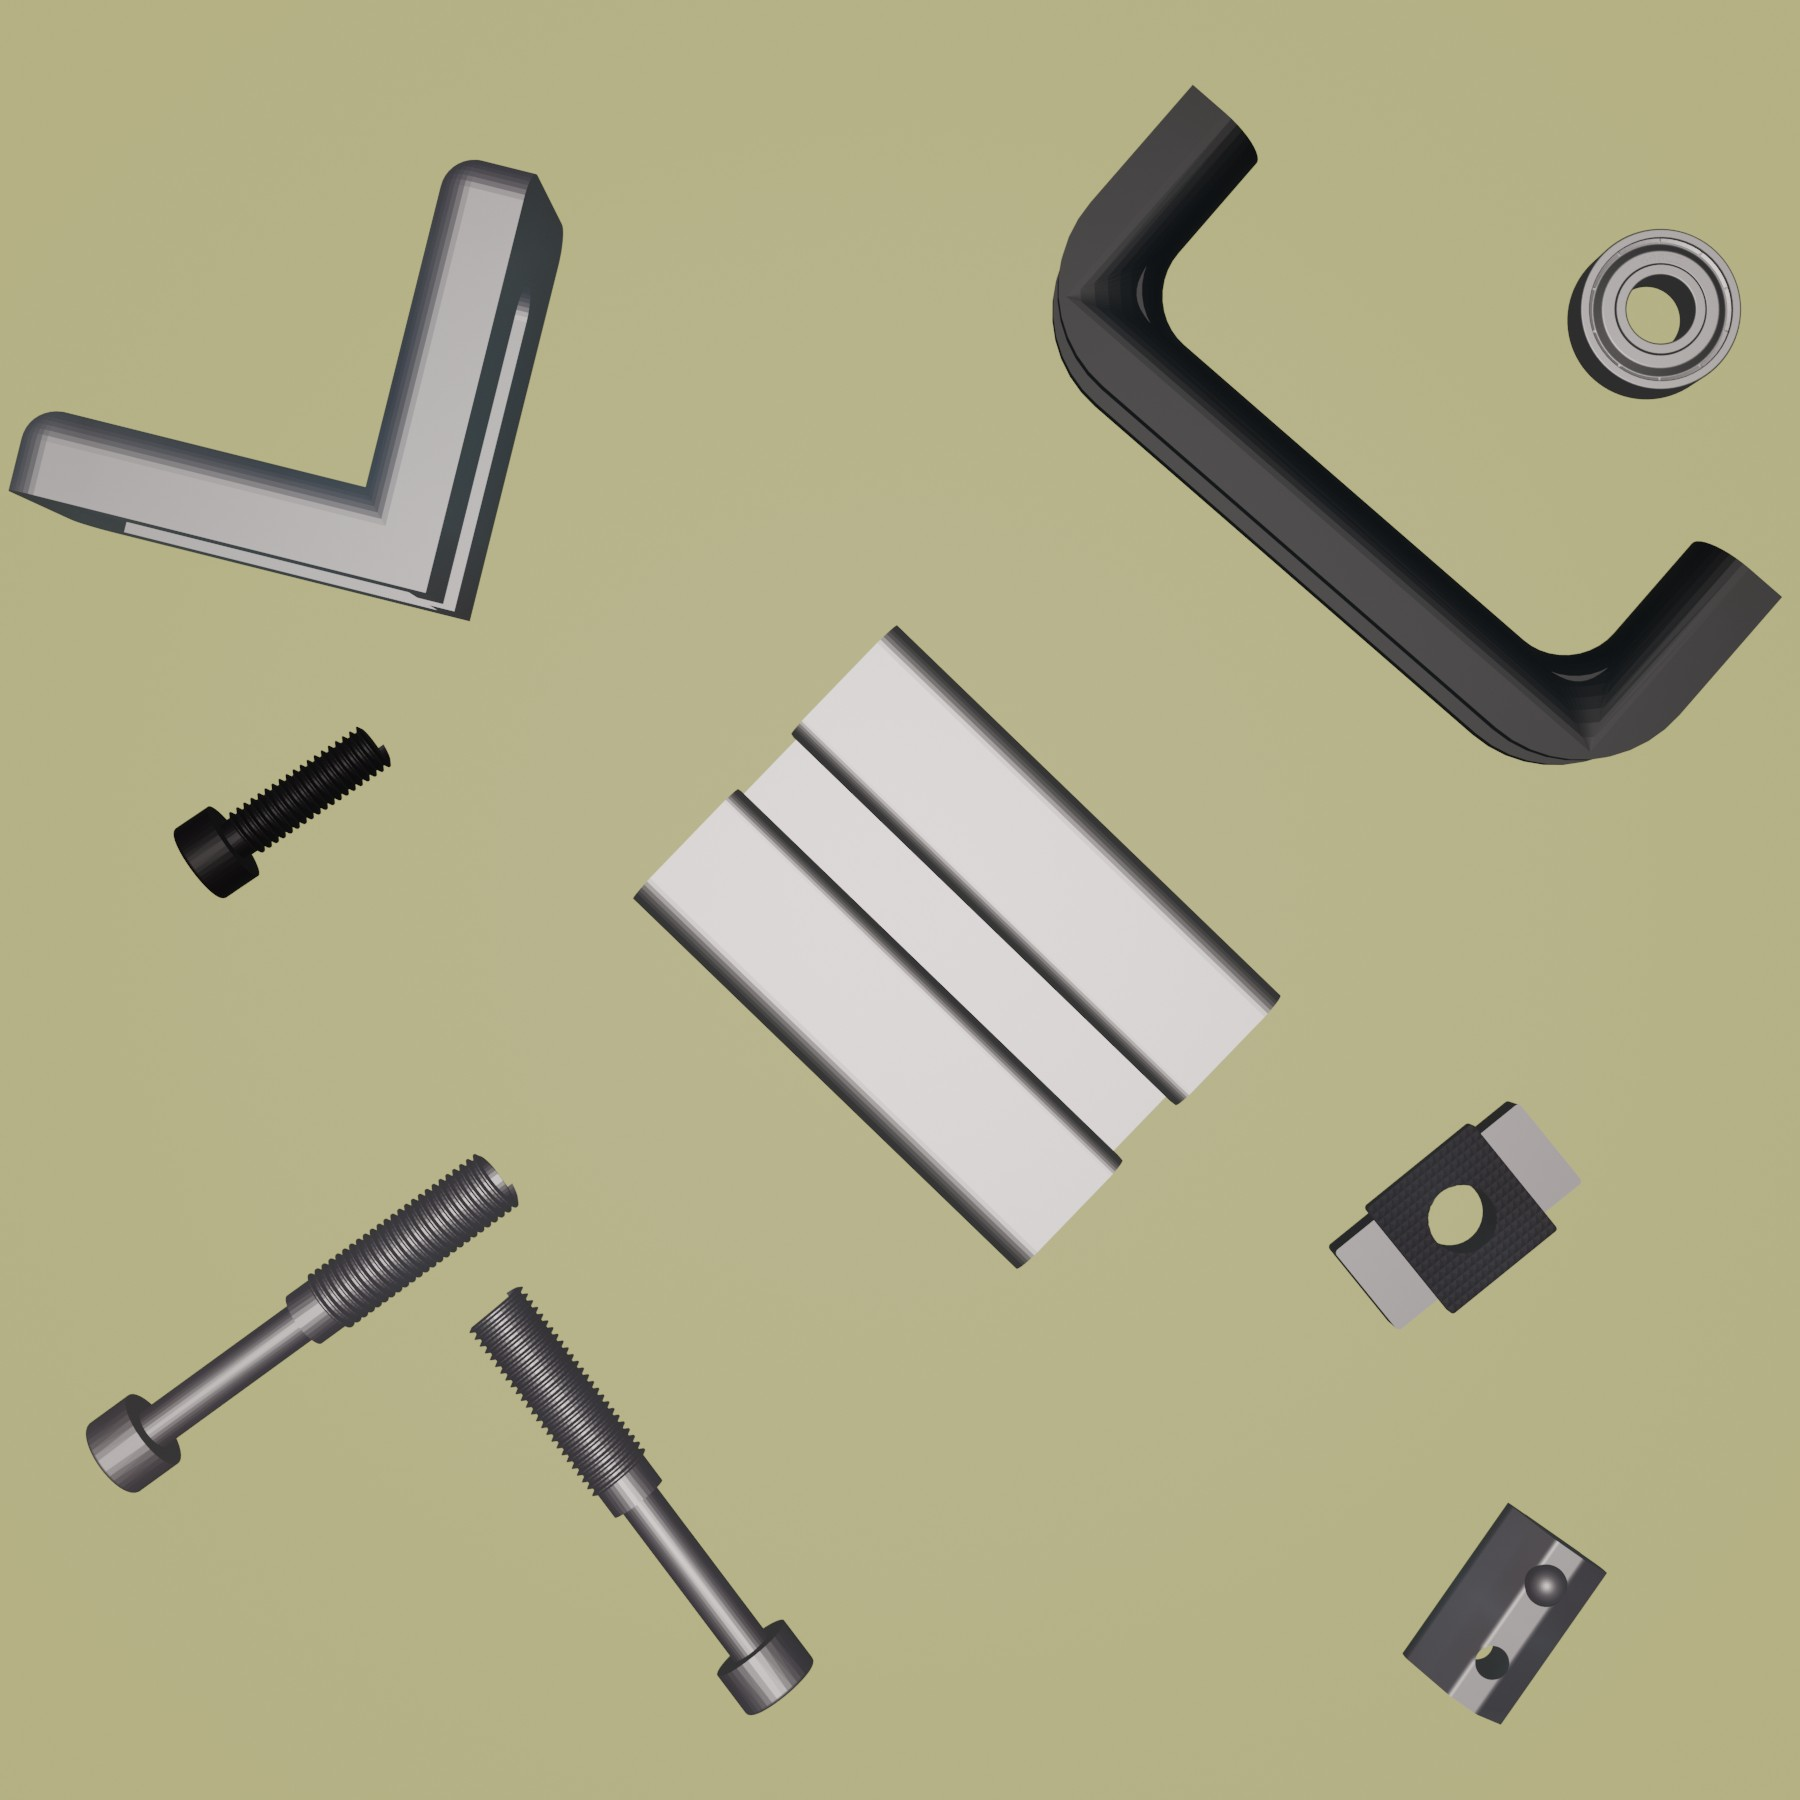Aluminium Extension: (630, 620, 1282, 1269)
Ball Bearing: (1564, 226, 1744, 401)
Multiwinkel: (7, 155, 565, 623)
Pull Handle: (1050, 81, 1784, 768)
Shoulder Socket Head Cap Screw: (466, 1284, 818, 1719), (82, 1151, 523, 1495)
Socket Head Cap Screw: (170, 722, 392, 898)
T Nut Square: (1329, 1099, 1582, 1332)
T Spring Nut: (1398, 1498, 1609, 1727)
